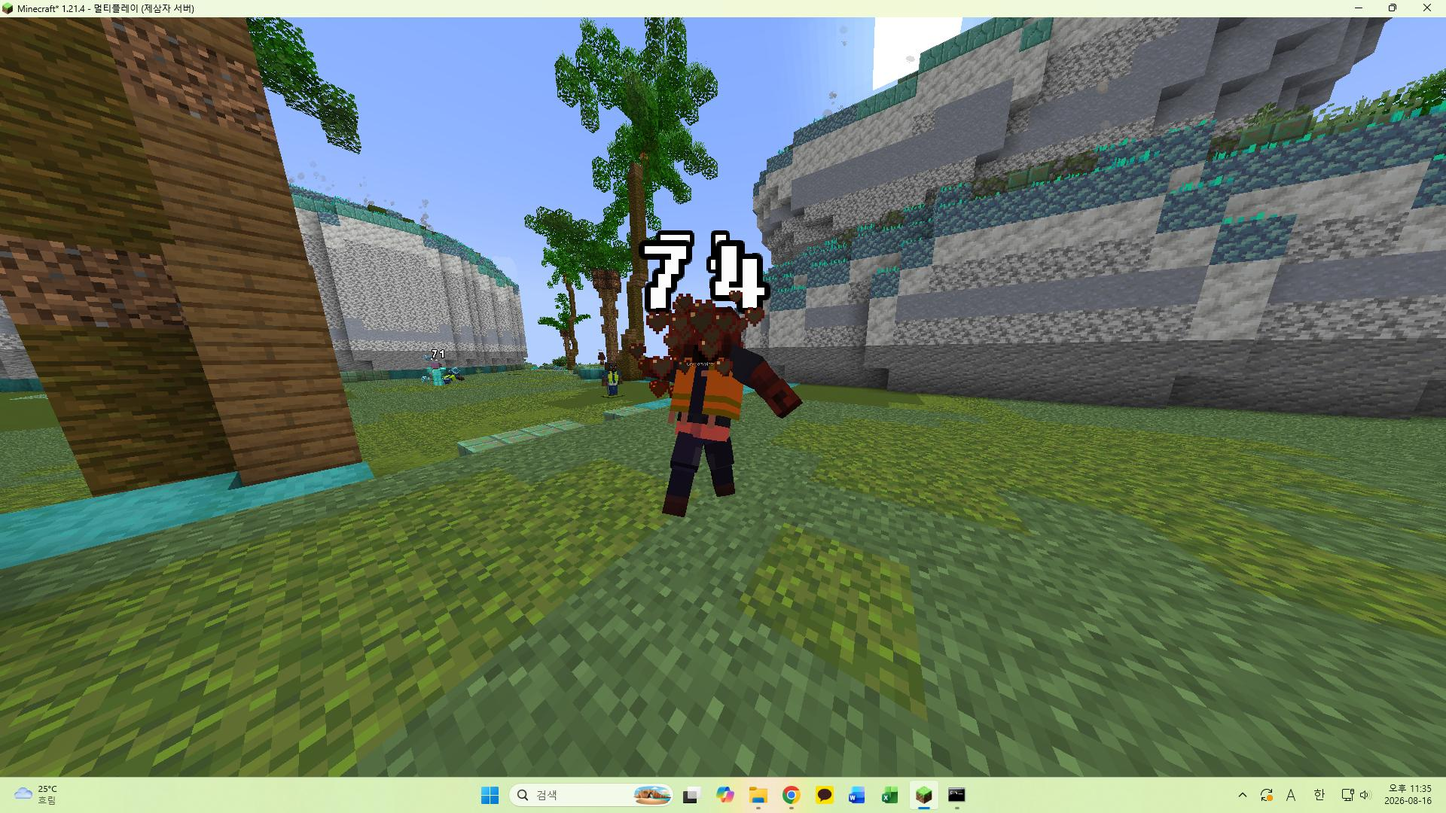Guardian: (629, 294, 801, 516)
